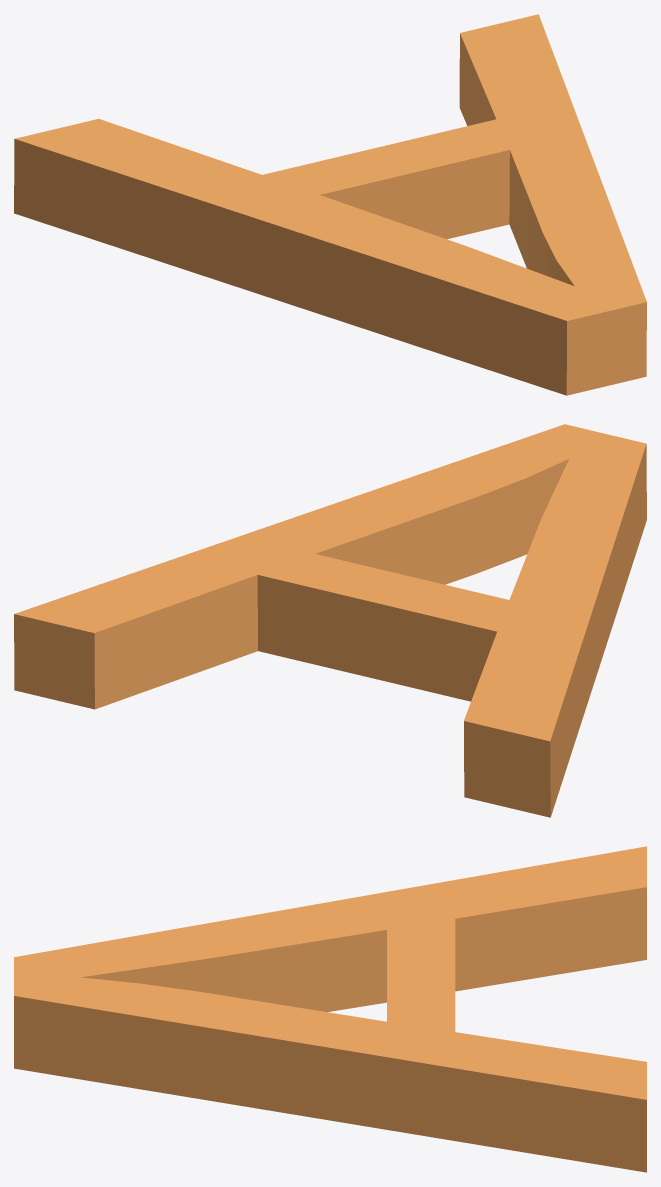
The model's file is original-83.obj.
3 renders of one model, top to bottom at view 1: azimuth 30°, elevation 25°; view 2: azimuth 150°, elevation 25°; view 3: azimuth 270°, elevation 25°, orthographic. The views are drawn at different scales.
Parts seen in each view (by area): view 1: mesh101/mesh101-geometry#mesh101-geometry; view 2: mesh101/mesh101-geometry#mesh101-geometry; view 3: mesh101/mesh101-geometry#mesh101-geometry.
Boxes of the visible parts, box(x1,y1,x2,y2) form: mesh101/mesh101-geometry#mesh101-geometry: box(14, 14, 646, 395); mesh101/mesh101-geometry#mesh101-geometry: box(14, 424, 646, 817); mesh101/mesh101-geometry#mesh101-geometry: box(14, 846, 646, 1172).
Bounding box in the file's own units: 0.0286 × 0.00406 × 0.0305.
